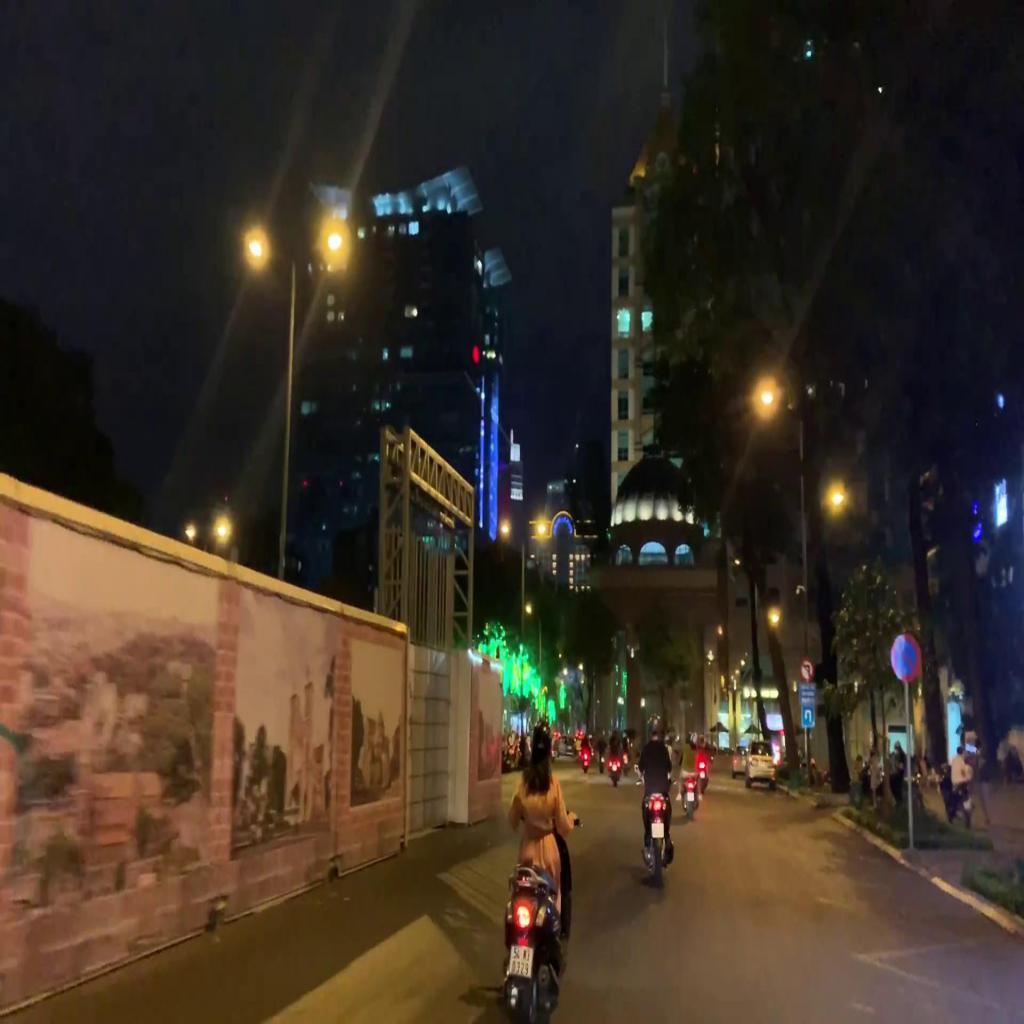cam_do_xe: (889, 630, 922, 686)
cam_re_trai: (800, 657, 814, 684)
cho_quay_xe: (802, 706, 815, 729)
khac: (800, 682, 817, 705)
